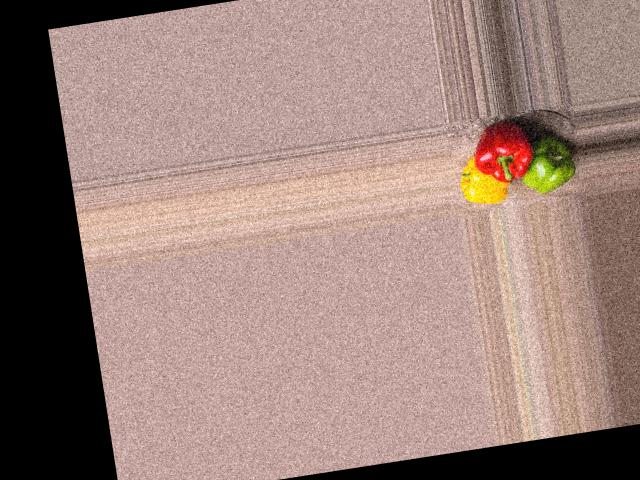bell_pepper: (456, 151, 510, 210)
